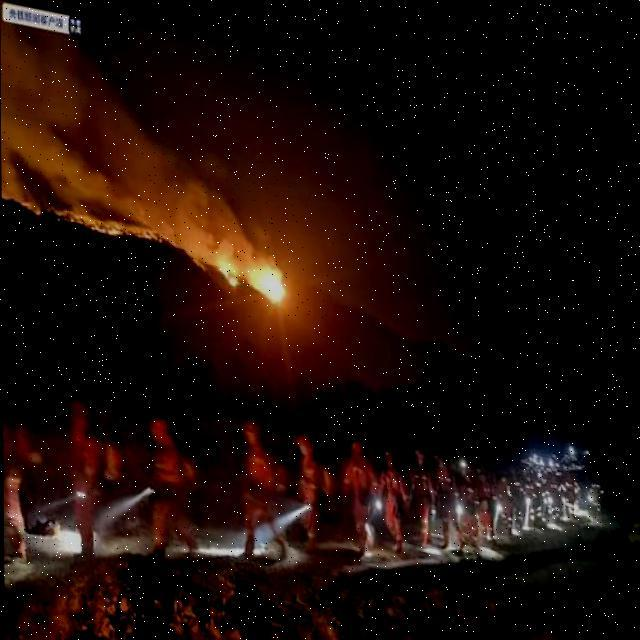Fire: (216, 233, 288, 300)
